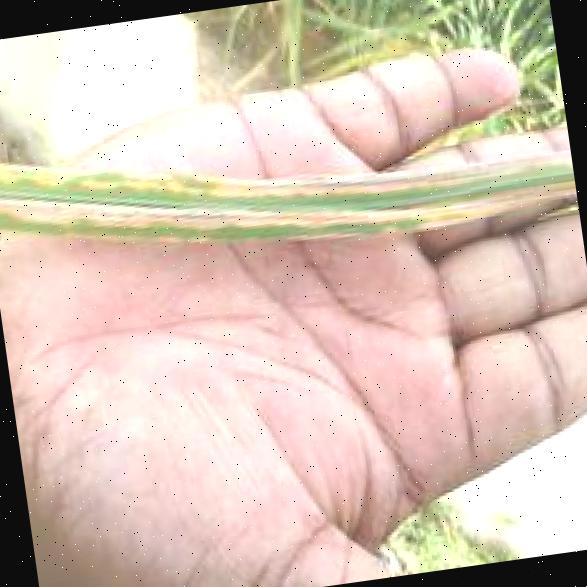Bacteria_Leaf_Blight: (0, 70, 570, 286)
